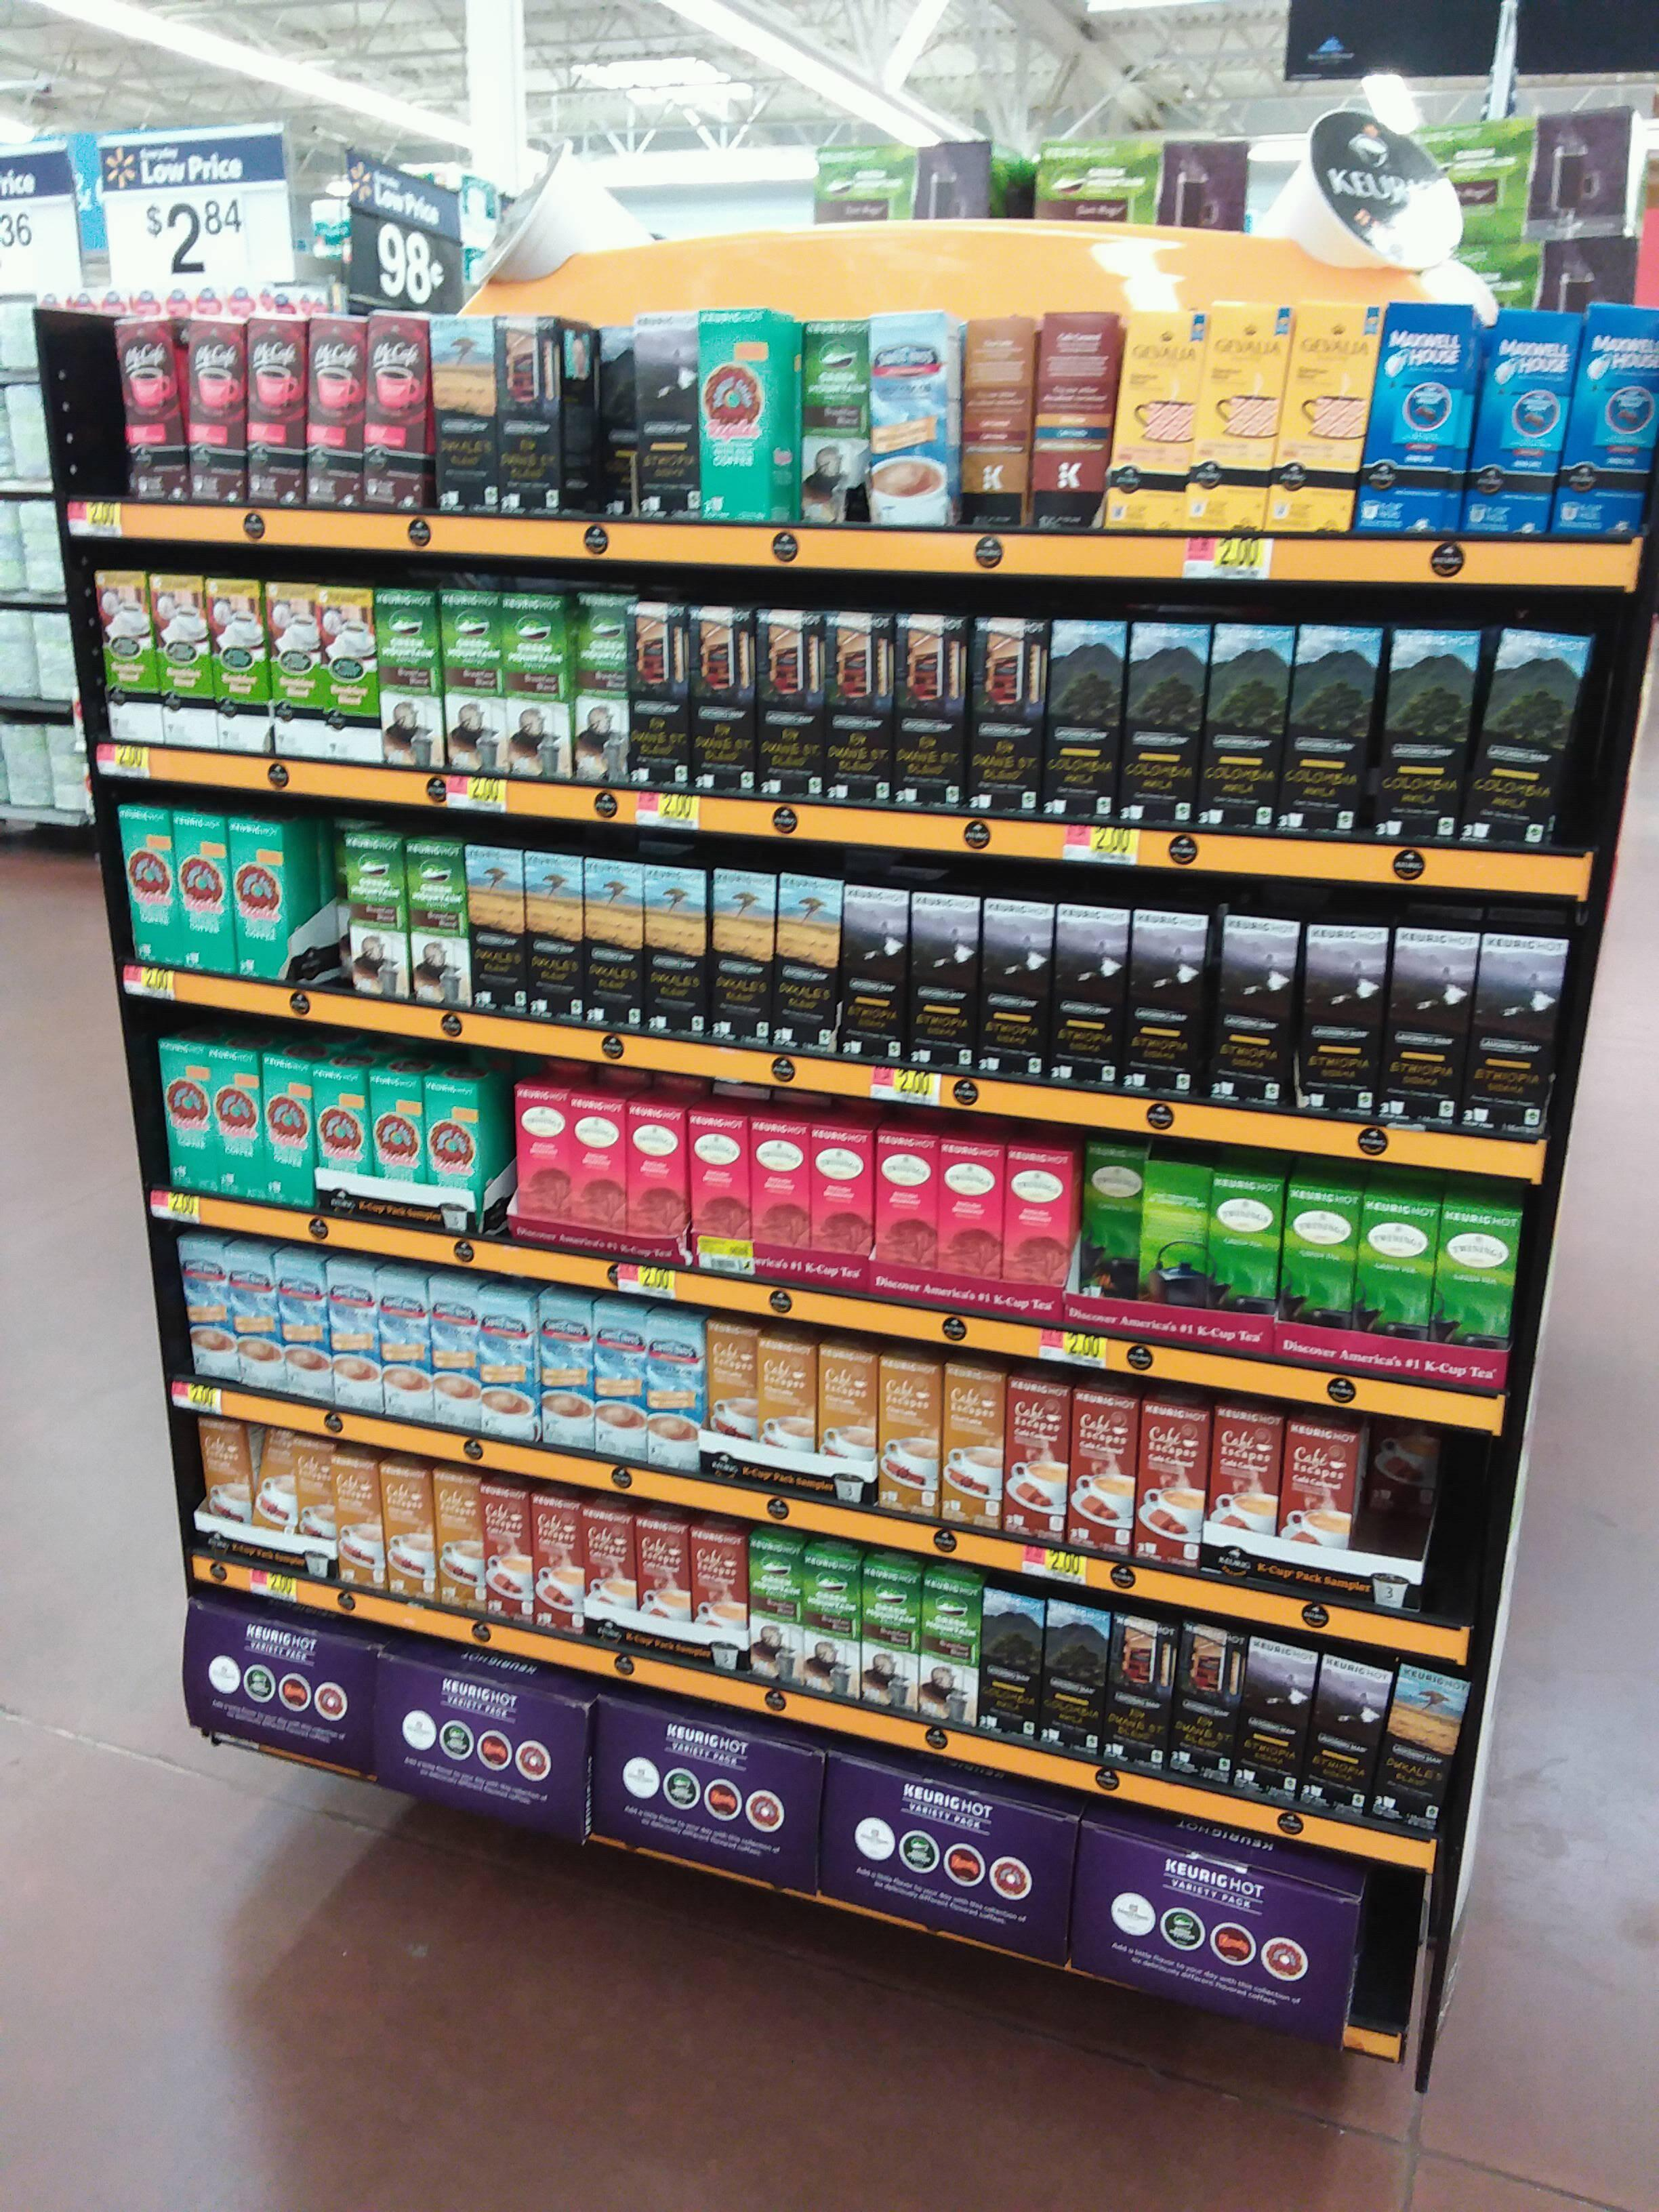empty: (58, 315, 129, 498), (1361, 1858, 1412, 2048), (1361, 1426, 1431, 1559)
